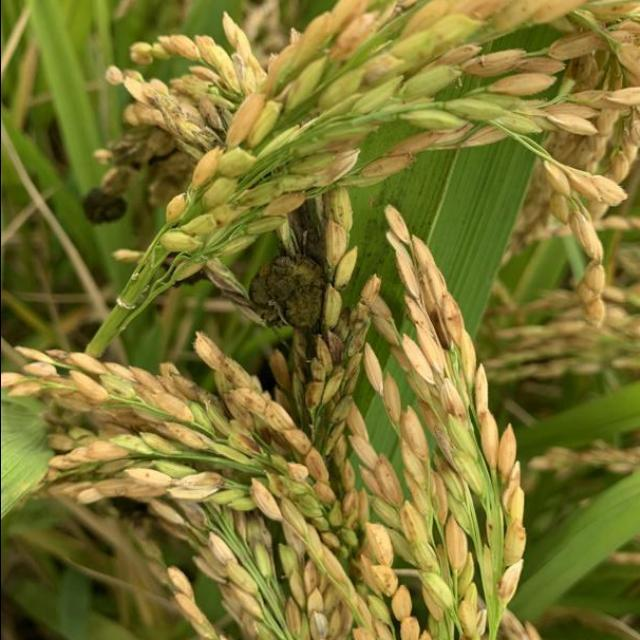Leaf_Scald: (245, 248, 329, 336), (79, 186, 130, 228)
